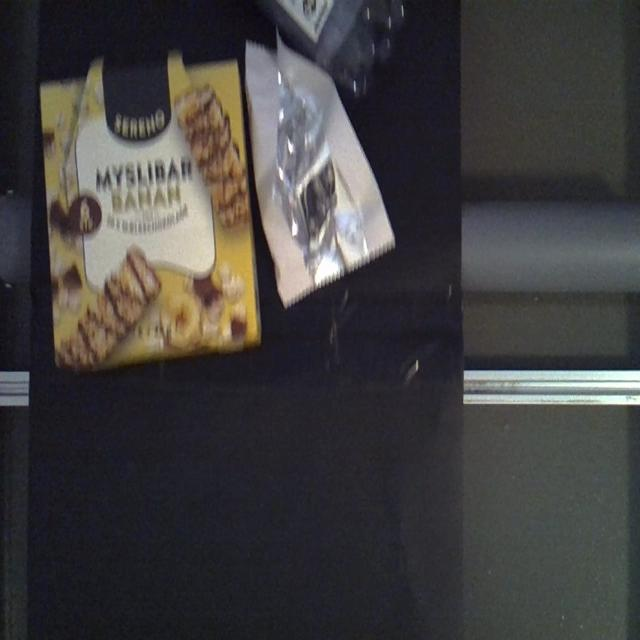bottle-plastic: (248, 0, 406, 96)
carton: (38, 47, 266, 376)
packaging-soft-plastic: (243, 32, 396, 308)
